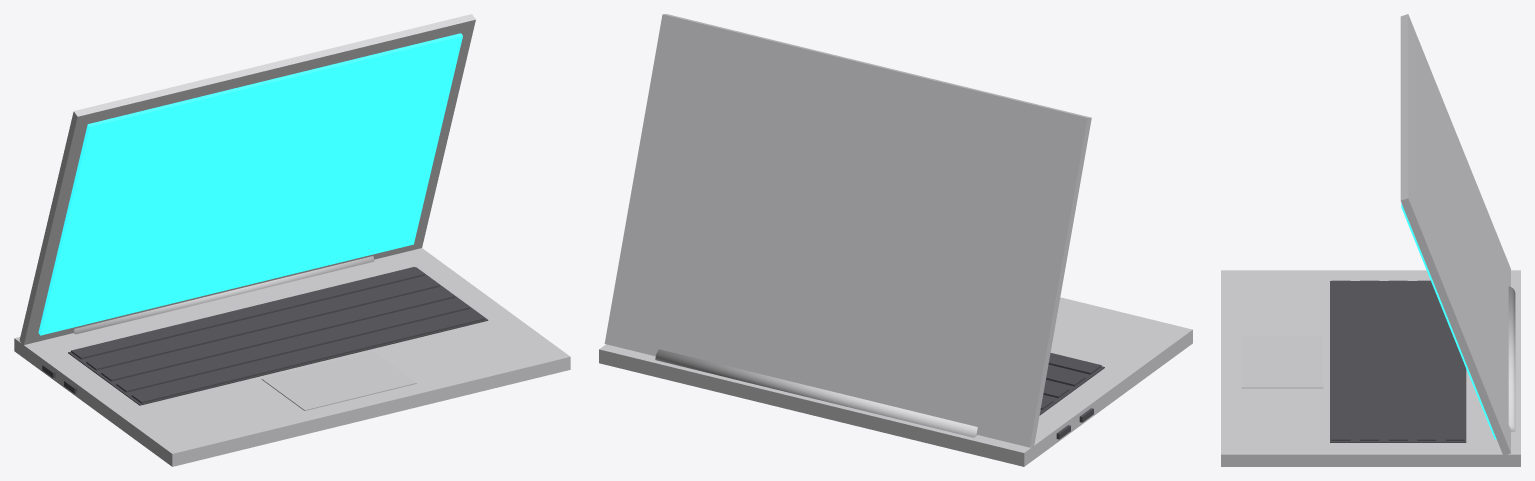
The model's file is jerryblessed-laptop-5040.glb.
3 renders of one model, left to right at view 1: azimuth 30°, elevation 25°; view 2: azimuth 150°, elevation 25°; view 3: azimuth 270°, elevation 25°, orthographic. The views are drawn at different scales.
Visible parts, largest first — view 1: Lap_Screen_Display, Lap_Base, Lap_Screen_Lid, Lap_Keyboard_Bed, Lap_Trackpad, Lap_Key_Row_4, Lap_Key_Row_5, Lap_Key_Row_3, Lap_Key_Row_1, Lap_Key_Row_2, Lap_Hinge; view 2: Lap_Screen_Lid, Lap_Base, Lap_Hinge, Lap_Key_Row_1, Lap_Keyboard_Bed; view 3: Lap_Base, Lap_Screen_Lid, Lap_Keyboard_Bed, Lap_Trackpad, Lap_Key_Row_1, Lap_Key_Row_2, Lap_Key_Row_3, Lap_Key_Row_4, Lap_Key_Row_5, Lap_Hinge, Lap_Screen_Display.
Boxes of the visible parts, x1,y1,x2,y2 form: Lap_Screen_Display: (38,33,462,335); Lap_Base: (14,248,570,466); Lap_Screen_Lid: (19,14,475,344); Lap_Keyboard_Bed: (68,267,488,405); Lap_Trackpad: (261,351,416,410); Lap_Key_Row_4: (86,277,439,370); Lap_Key_Row_5: (71,266,424,359); Lap_Key_Row_3: (101,289,454,381); Lap_Key_Row_1: (131,311,484,403); Lap_Key_Row_2: (116,300,469,392); Lap_Hinge: (73,256,374,334); Lap_Screen_Lid: (604,14,1091,447); Lap_Base: (599,297,1192,466); Lap_Hinge: (655,349,977,437); Lap_Key_Row_1: (1048,353,1101,374); Lap_Keyboard_Bed: (1039,364,1104,415); Lap_Base: (1221,270,1520,466); Lap_Screen_Lid: (1400,14,1510,454); Lap_Keyboard_Bed: (1330,281,1466,442); Lap_Trackpad: (1241,335,1323,388); Lap_Key_Row_1: (1331,280,1350,440); Lap_Key_Row_2: (1360,280,1379,440); Lap_Key_Row_3: (1388,280,1407,440); Lap_Key_Row_4: (1417,280,1436,440); Lap_Key_Row_5: (1446,319,1464,440); Lap_Hinge: (1508,286,1515,431); Lap_Screen_Display: (1401,203,1496,439).
Bounding box in the file's own units: 0.322 × 0.2177 × 0.22.
